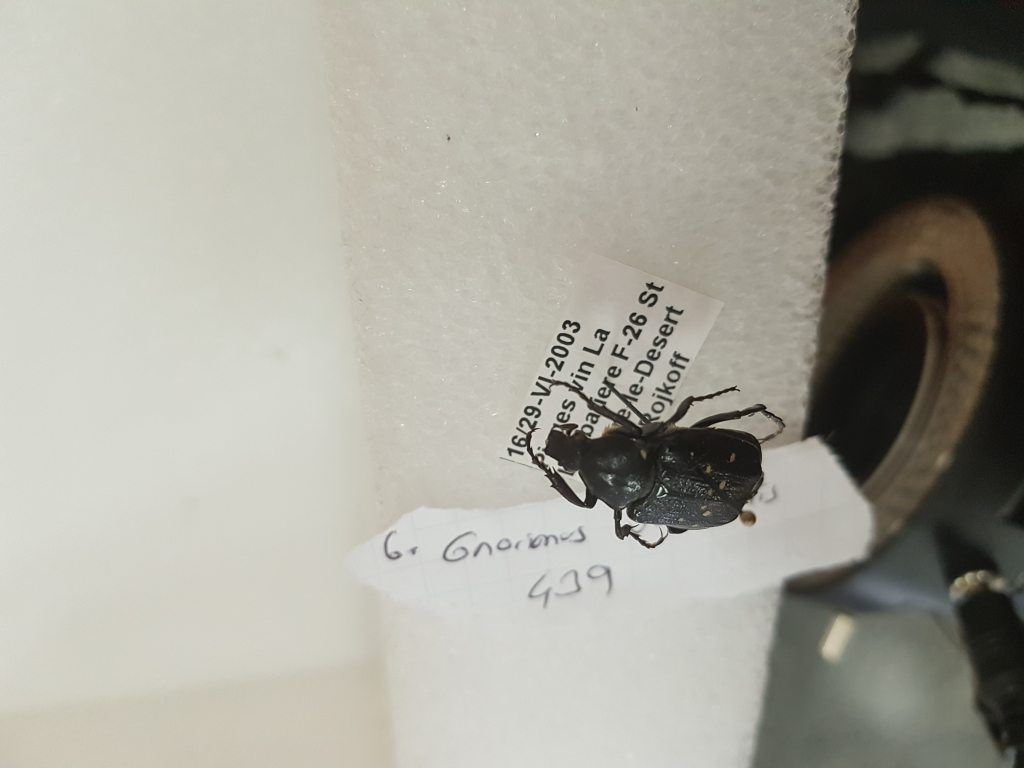Gnorimus_variabilis: (531, 371, 787, 555)
